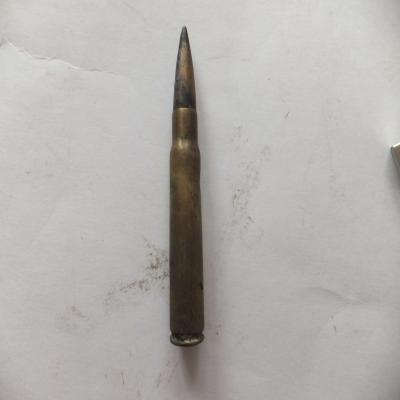weapon: (169, 29, 205, 348)
